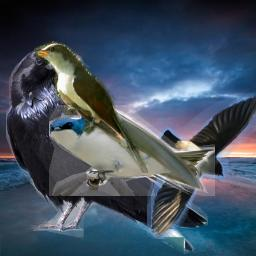Crow: (6, 48, 208, 254)
Cuckoo: (34, 40, 150, 173)
Swallow: (147, 93, 256, 239), (49, 105, 215, 196)
